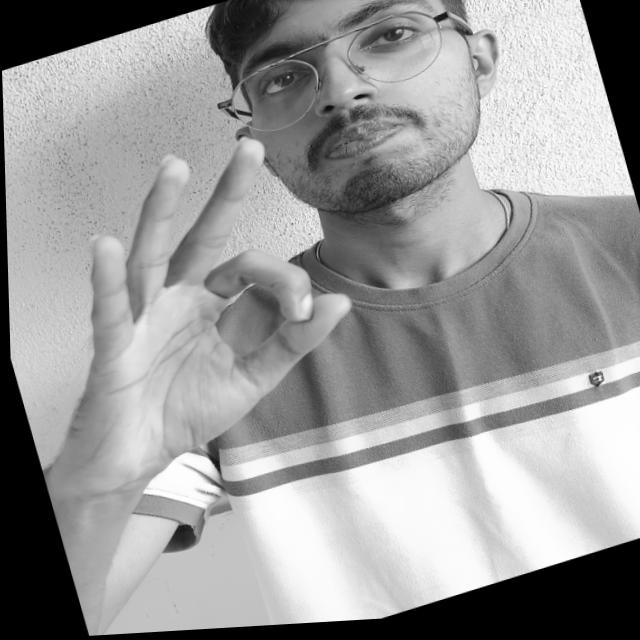Superb: (3, 99, 404, 550)
